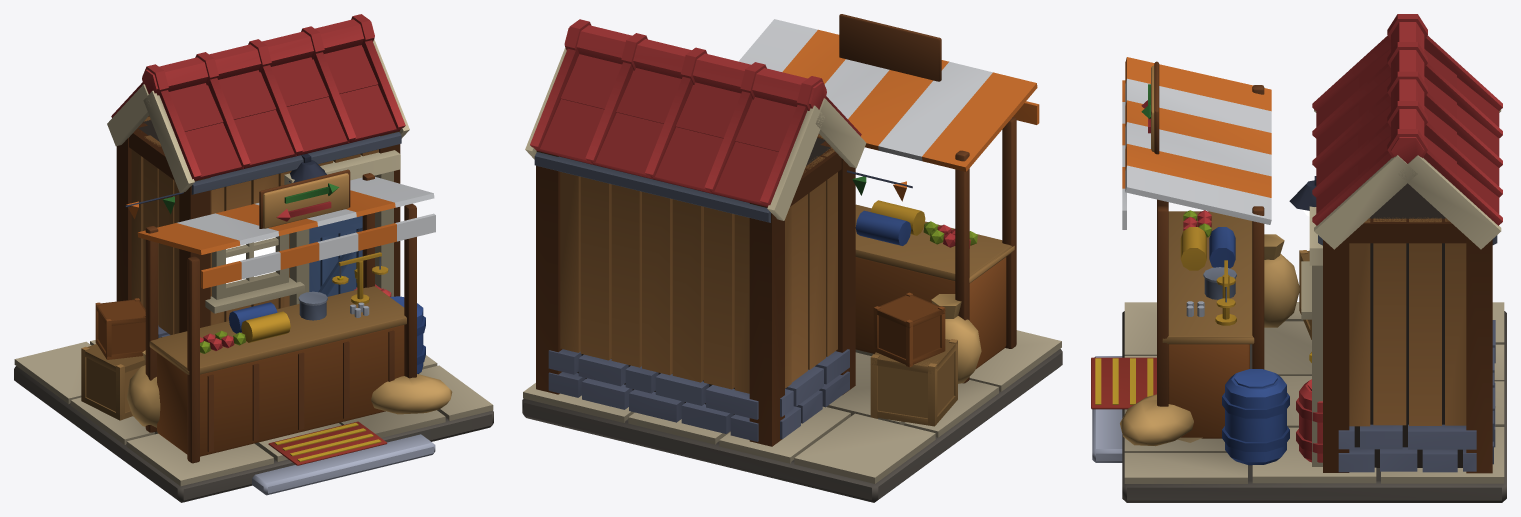
The model's file is b_tauschladen.glb.
3 renders of one model, left to right at view 1: azimuth 30°, elevation 25°; view 2: azimuth 150°, elevation 25°; view 3: azimuth 270°, elevation 25°, orthographic. The views are drawn at different scales.
Parts seen in each view (by area): view 1: body, sway_awning; view 2: body, sway_awning; view 3: body, sway_awning.
Boxes of the visible parts, left/top/right/bottom form: body: left=14, top=14, right=493, bottom=502; sway_awning: left=137, top=177, right=435, bottom=288; body: left=522, top=14, right=1062, bottom=502; sway_awning: left=738, top=19, right=1039, bottom=171; body: left=1091, top=14, right=1506, bottom=502; sway_awning: left=1122, top=57, right=1271, bottom=229.
Bounding box in the file's own units: 3.5 × 3.4 × 3.48.
